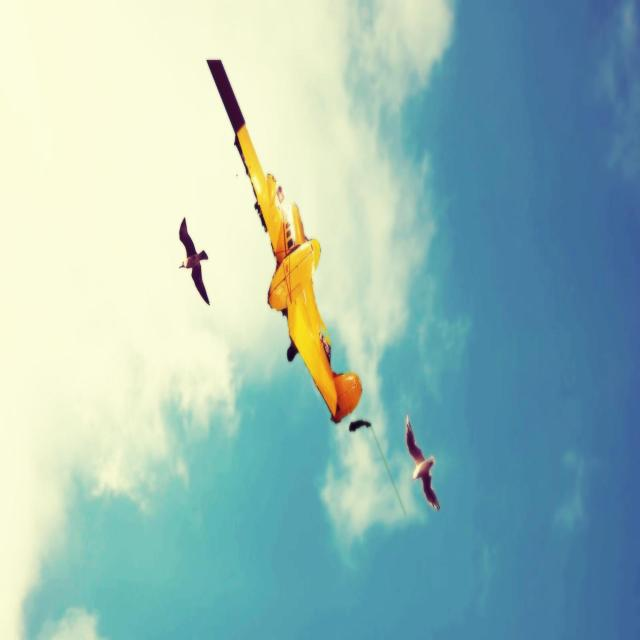airplane: (206, 56, 364, 425)
